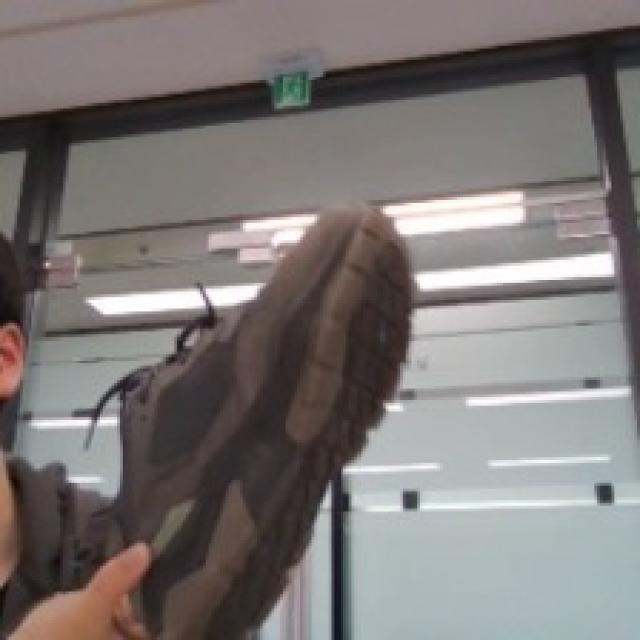shoe: (77, 178, 426, 640)
